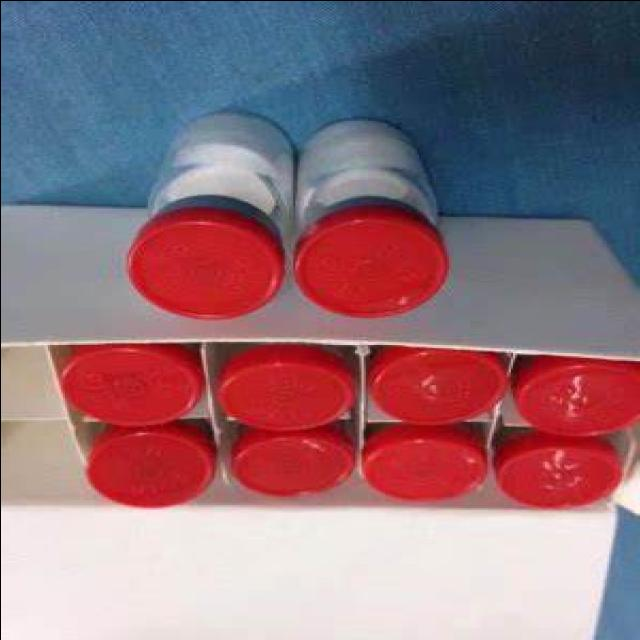vial: (296, 229, 438, 311), (73, 426, 197, 511), (376, 349, 514, 423), (59, 355, 197, 425), (140, 235, 266, 311), (232, 358, 360, 432), (360, 432, 498, 494), (519, 358, 640, 428), (227, 436, 351, 500), (500, 446, 628, 505)
